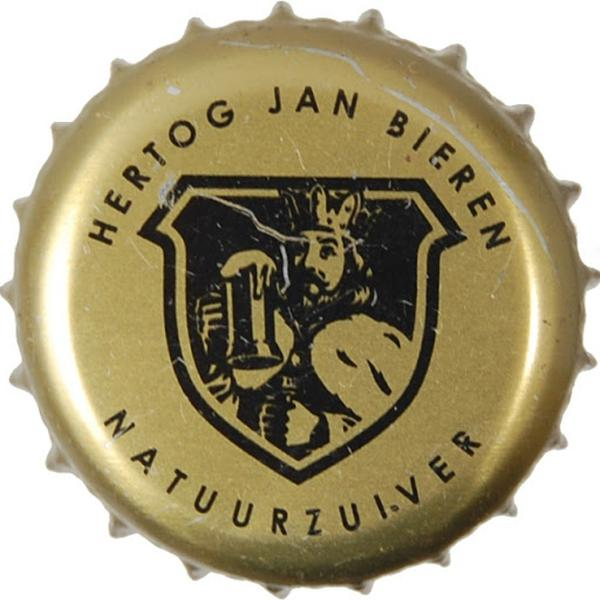hertog jan: (1, 1, 600, 600)
